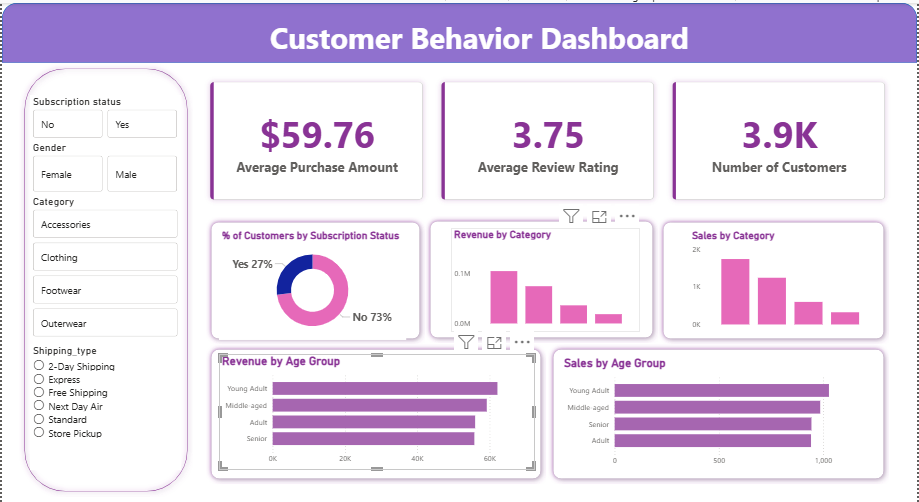

The dashboard page shown, as its layout file describes it:
{"tool":"powerbi","page":{"name":"Page 1","canvas":[1500,820],"ordinal":0},"visuals":[{"type":"cardVisual","fields":{"Data":["public customer.Average Purchase Amount","public customer.Average Review Rating","public customer.Number of Customers"]},"box":[313.2,101.7,1164.4,249.3],"z":0},{"type":"shape","box":[0,0,1500.6,98.4],"z":1000},{"type":"textbox","box":[195.2,18,1123.4,80.4],"z":2000},{"type":"shape","box":[334.6,351,359.2,208.3],"z":3000},{"type":"textbox","box":[0,295,223,171],"z":4000},{"type":"donutChart","title":"% of Customers by Subscription Status","fields":{"Category":["public customer.subscription_status"],"Y":["CountNonNull(public customer.customer_id)"]},"box":[355.9,370.6,306.7,182],"z":5000},{"type":"shape","box":[693.7,349.3,382.1,208.3],"z":6000},{"type":"shape","box":[1075.8,351,378.8,208.3],"z":7000},{"type":"clusteredColumnChart","title":"Revenue by Category","fields":{"Y":["Sum(public customer.purchase_amount)"],"Category":["public customer.category"]},"box":[736.4,369,310,170.6],"z":8000},{"type":"clusteredColumnChart","title":"Sales by Category","fields":{"Category":["public customer.category"],"Y":["CountNonNull(public customer.customer_id)"]},"box":[1126.7,370.6,310,170.6],"z":9000},{"type":"shape","box":[27.9,98.4,285.4,711.8],"z":10000},{"type":"advancedSlicerVisual","fields":{"Values":["public customer.subscription_status"]},"box":[45.9,150.9,247.6,75.4],"z":11000},{"type":"advancedSlicerVisual","fields":{"Values":["public customer.gender"]},"box":[45.9,226.3,247.6,88.6],"z":12000},{"type":"advancedSlicerVisual","fields":{"Values":["public customer.category"]},"box":[45.9,314.9,247.6,237.8],"z":13000},{"type":"listSlicer","fields":{"Values":["public customer.shipping_type"]},"box":[45.9,559.2,247.6,206.6],"z":14000},{"type":"shape","box":[334.6,559.2,557.6,229.6],"z":16000},{"type":"clusteredBarChart","title":"Revenue by Age Group","fields":{"Y":["Sum(public customer.purchase_amount)"],"Category":["public customer.age_group"]},"box":[355.9,575.6,518.2,190.2],"z":16001},{"type":"shape","box":[895.4,559.2,559.2,229.6],"z":16002},{"type":"clusteredBarChart","title":"Sales by Age Group","fields":{"Y":["CountNonNull(public customer.customer_id)"],"Category":["public customer.age_group"]},"box":[916.8,578.9,518.2,190.2],"z":16003}]}

Visuals, with their boxes in screenshot pixels (x1, y1, x2, y2), scaled from the page's 1500x820 canvas onto the 919x502 screenshot:
cardVisual - public customer.Average Purchase Amount x public customer.Average Review Rating: pyautogui.locateOnScreen(192, 62, 905, 215)
shape: pyautogui.locateOnScreen(0, 0, 918, 60)
textbox: pyautogui.locateOnScreen(120, 11, 808, 60)
shape: pyautogui.locateOnScreen(205, 215, 425, 342)
textbox: pyautogui.locateOnScreen(0, 181, 137, 285)
"% of Customers by Subscription Status" donutChart: pyautogui.locateOnScreen(218, 227, 406, 338)
shape: pyautogui.locateOnScreen(425, 214, 659, 341)
shape: pyautogui.locateOnScreen(659, 215, 891, 342)
"Revenue by Category" clusteredColumnChart: pyautogui.locateOnScreen(451, 226, 641, 330)
"Sales by Category" clusteredColumnChart: pyautogui.locateOnScreen(690, 227, 880, 331)
shape: pyautogui.locateOnScreen(17, 60, 192, 496)
advancedSlicerVisual - public customer.subscription_status: pyautogui.locateOnScreen(28, 92, 180, 139)
advancedSlicerVisual - public customer.gender: pyautogui.locateOnScreen(28, 139, 180, 193)
advancedSlicerVisual - public customer.category: pyautogui.locateOnScreen(28, 193, 180, 338)
listSlicer - public customer.shipping_type: pyautogui.locateOnScreen(28, 342, 180, 469)
shape: pyautogui.locateOnScreen(205, 342, 547, 483)
"Revenue by Age Group" clusteredBarChart: pyautogui.locateOnScreen(218, 352, 536, 469)
shape: pyautogui.locateOnScreen(549, 342, 891, 483)
"Sales by Age Group" clusteredBarChart: pyautogui.locateOnScreen(562, 354, 879, 471)
